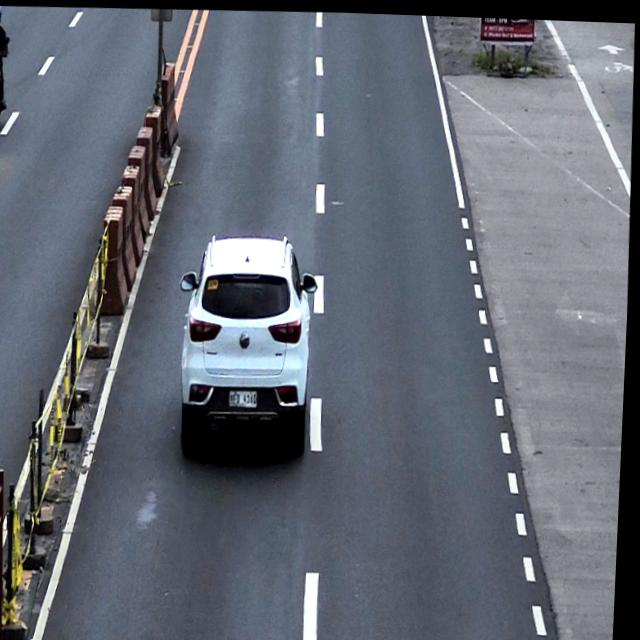Car: (175, 228, 325, 458)
License-Plate: (231, 384, 261, 406)
Motorcycle: (0, 33, 12, 128)
